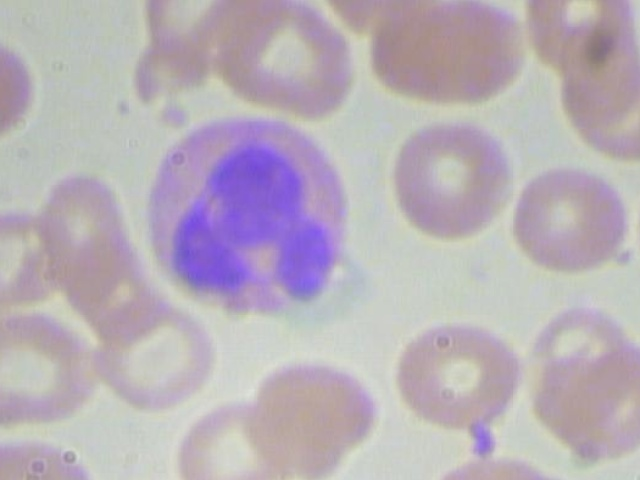RBC: (190, 0, 358, 120), (361, 0, 528, 106), (247, 345, 380, 475), (385, 118, 517, 248), (501, 155, 633, 285), (396, 309, 528, 439), (85, 287, 217, 417), (168, 380, 300, 480), (539, 341, 640, 471), (0, 305, 97, 432), (517, 0, 640, 84), (0, 432, 93, 480), (0, 28, 37, 147)
WBC: (135, 111, 360, 326)
